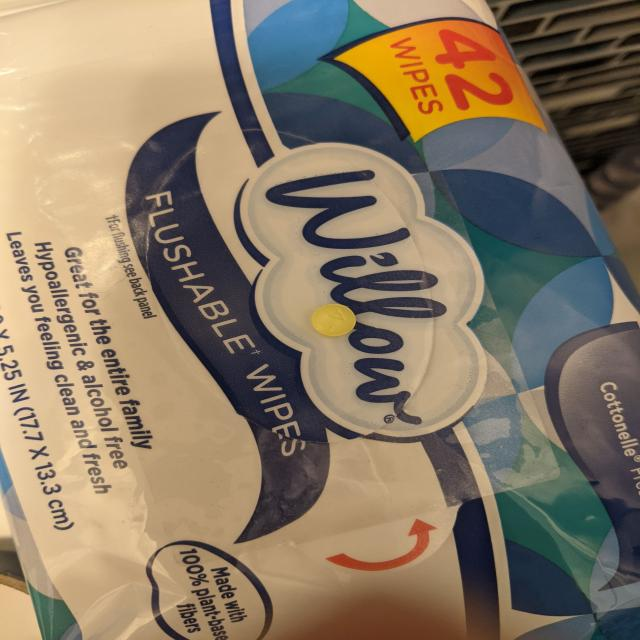non-organic waste: (311, 303, 357, 338)
